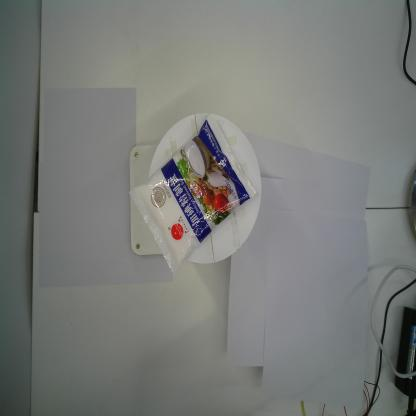Seasoner: (128, 115, 256, 274)
